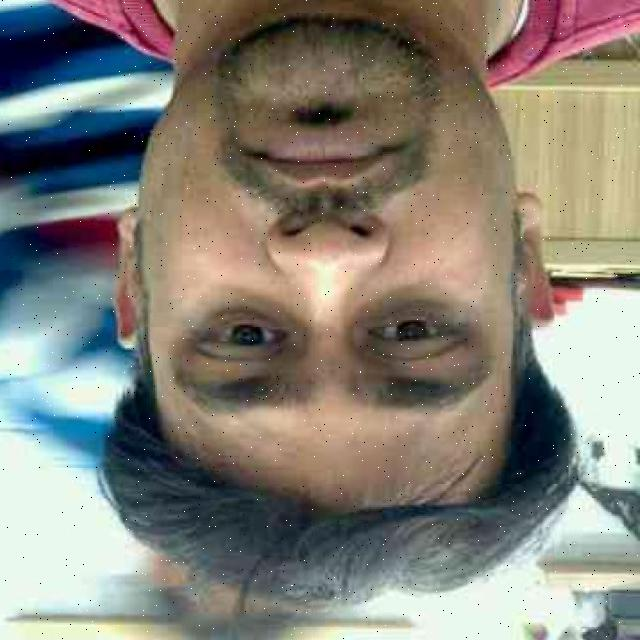puffy_eyes: (353, 286, 470, 324), (207, 290, 299, 332)
